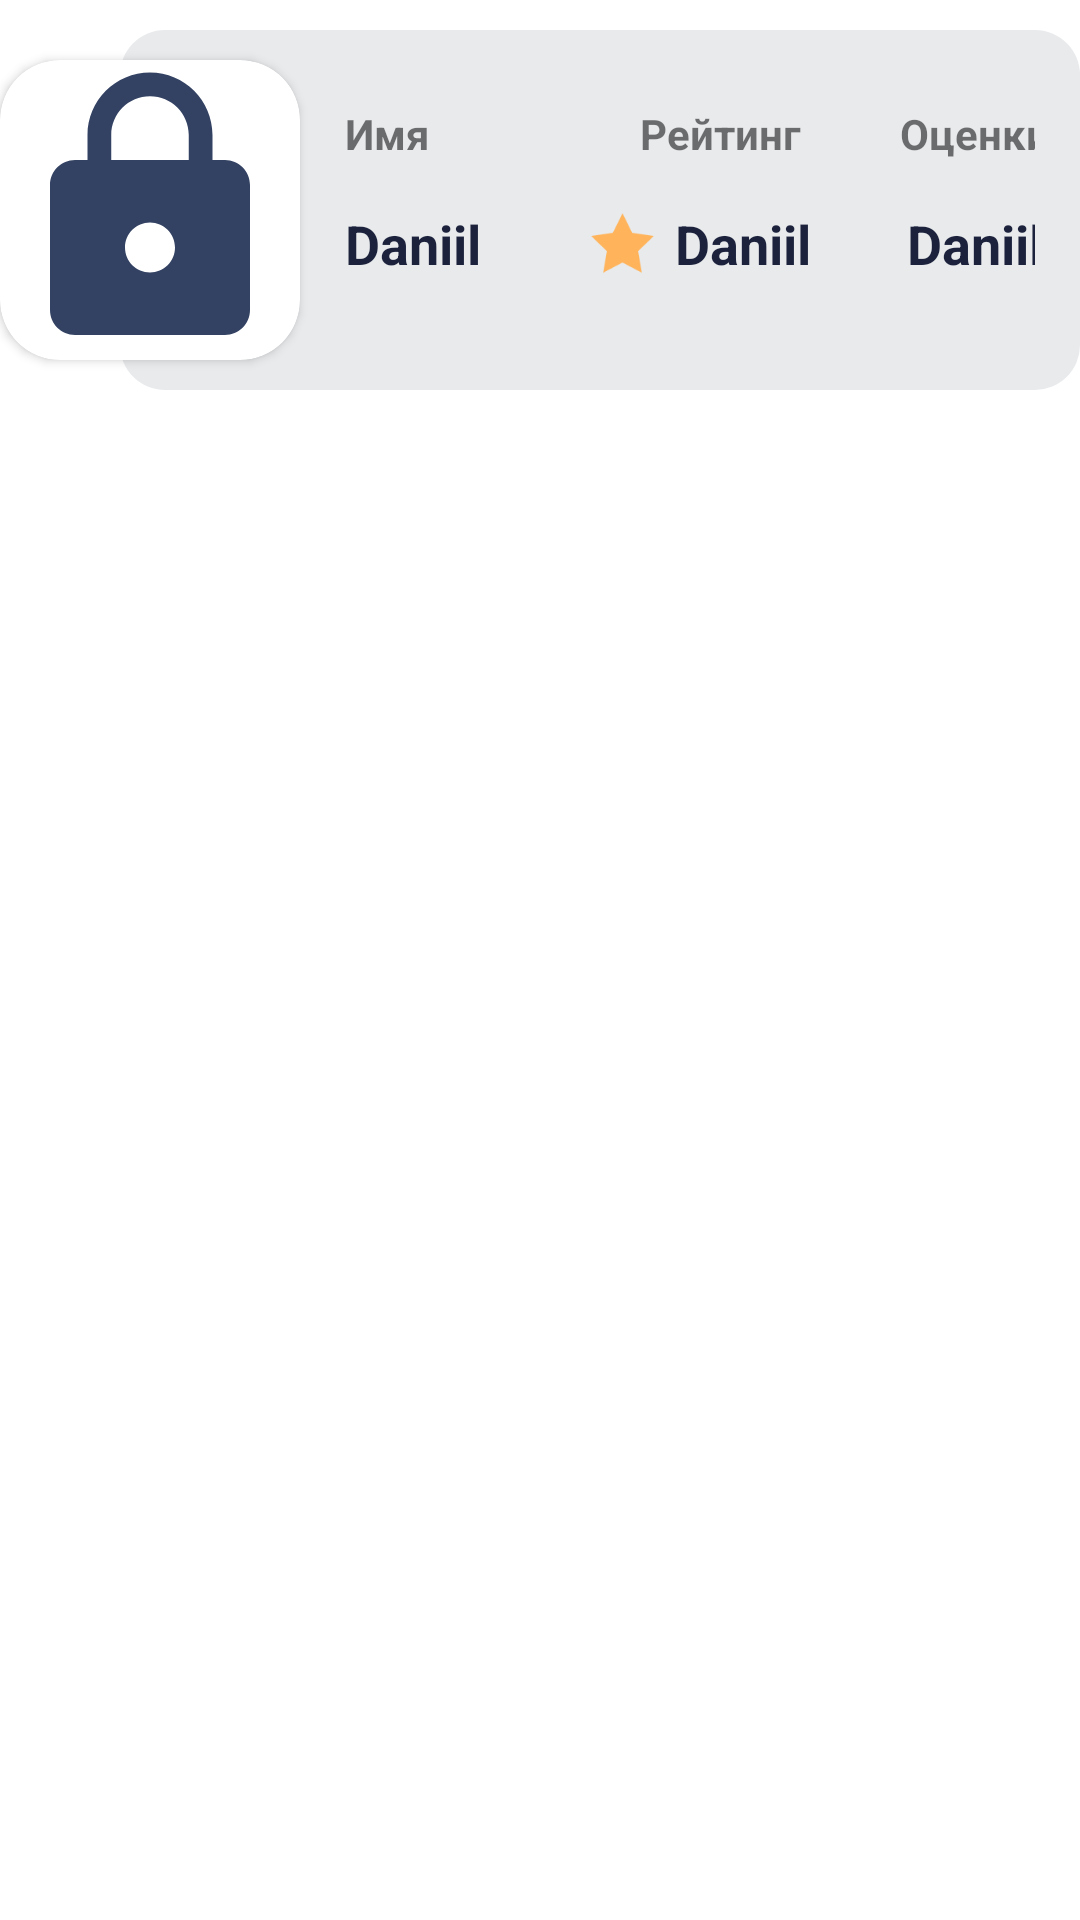

Where to tap for icons on this 1080*1920 app screen, as [x,y]:
password: [150,210]
star: [622,243]
